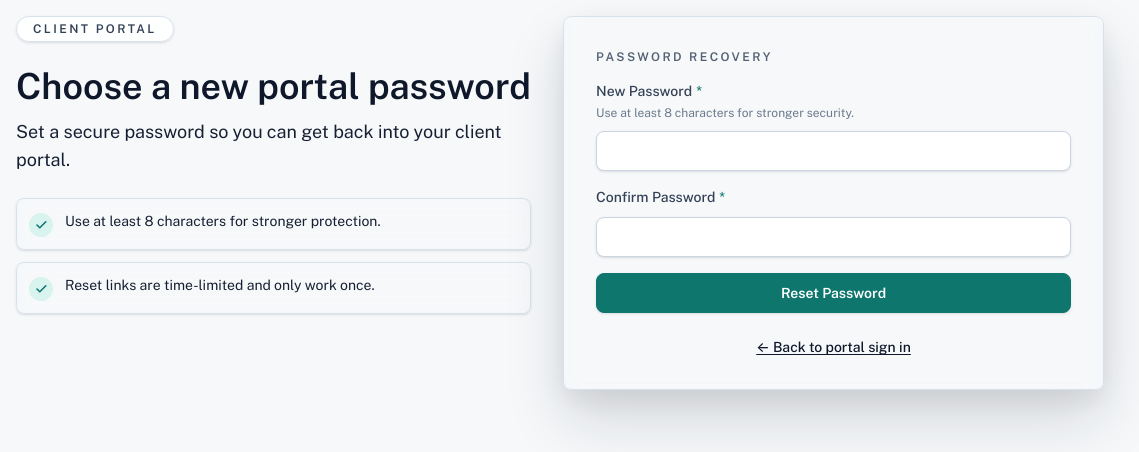
Test: Portal access pages › validates a portal reset token and completes the reset flow
Type "Password1" into the password field labelled "New Password*" at (834, 151), box [596,131,1071,171]
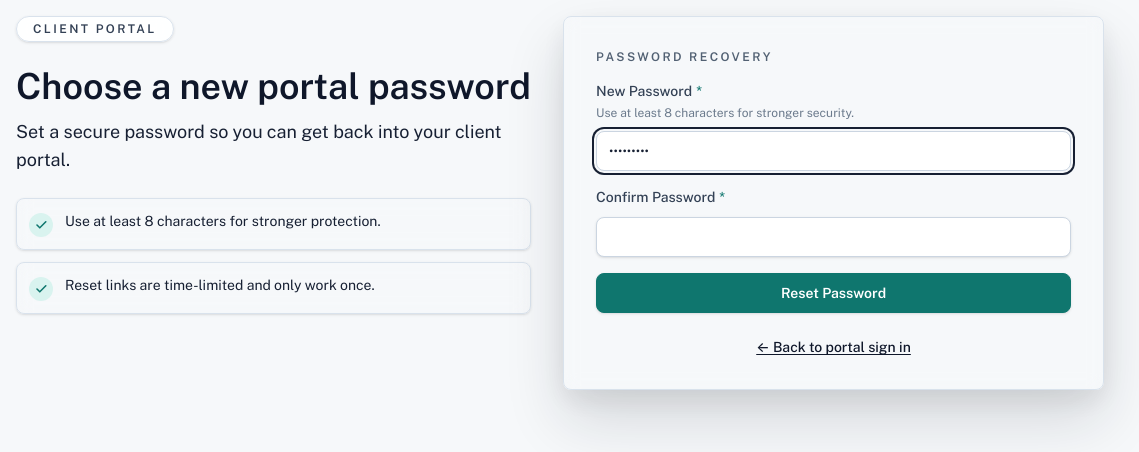
Type "Password1" into the password field labelled "Confirm Password*" at (834, 237), box [596,217,1071,257]
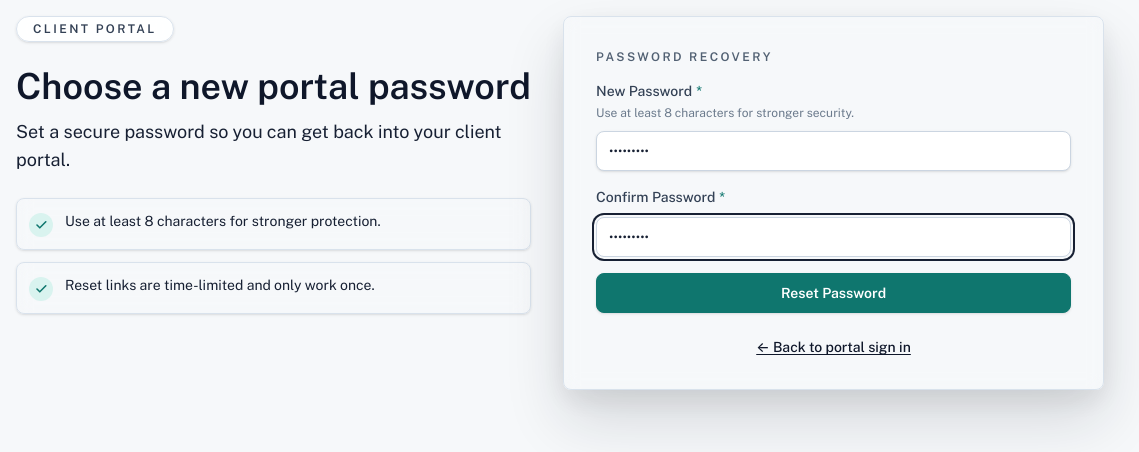
Click the button "Reset Password" at (834, 293), box [596,273,1071,313]
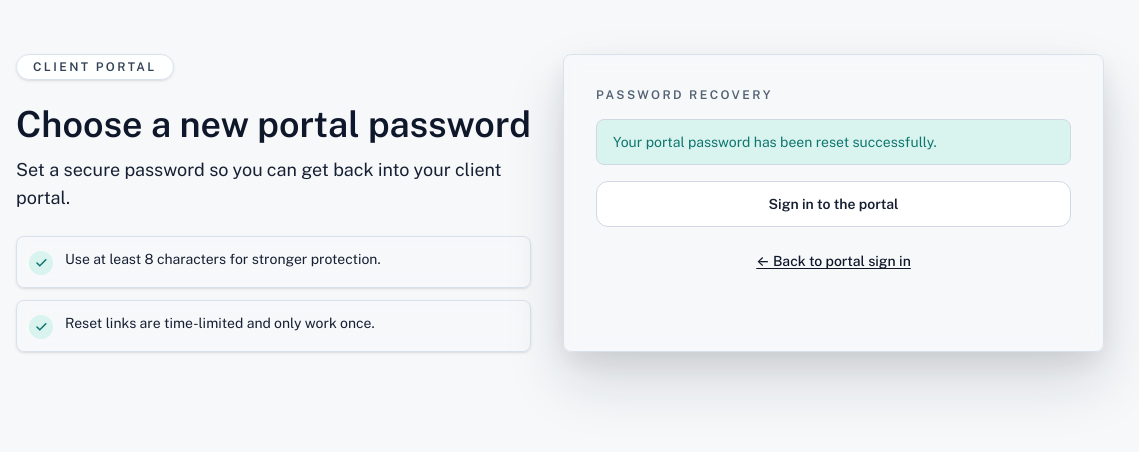
Expected: the text "Your portal password has been reset successfully." is shown, [596,119,1071,165]
